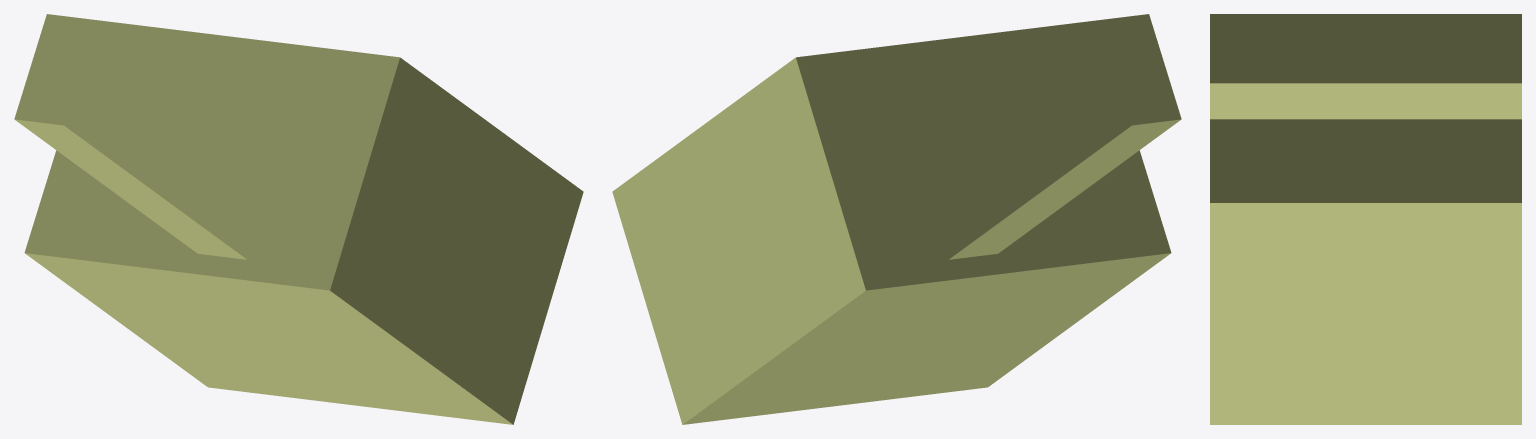
The picture shows the model from 3 angles, left to right: view 1: azimuth 30°, elevation 25°; view 2: azimuth 150°, elevation 25°; view 3: azimuth 270°, elevation 25°; orthographic projection. The views are drawn at different scales.
Parts seen in each view (by area): view 1: 0_3_2_0_0_1_0_1_3; view 2: 0_3_2_0_0_1_0_1_3; view 3: 0_3_2_0_0_1_0_1_3.
Boxes of the visible parts, bbox=[...] form: 0_3_2_0_0_1_0_1_3: bbox=[14, 14, 583, 424]; 0_3_2_0_0_1_0_1_3: bbox=[612, 14, 1181, 424]; 0_3_2_0_0_1_0_1_3: bbox=[1210, 14, 1521, 424].
Size of the model in its own units: 10.92 by 9.35 by 9.
